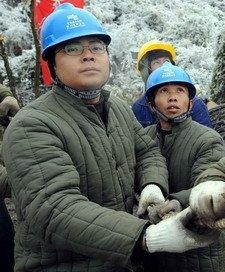gloves: (142, 205, 218, 253), (135, 183, 165, 216)
hard-hat: (40, 1, 111, 59)
